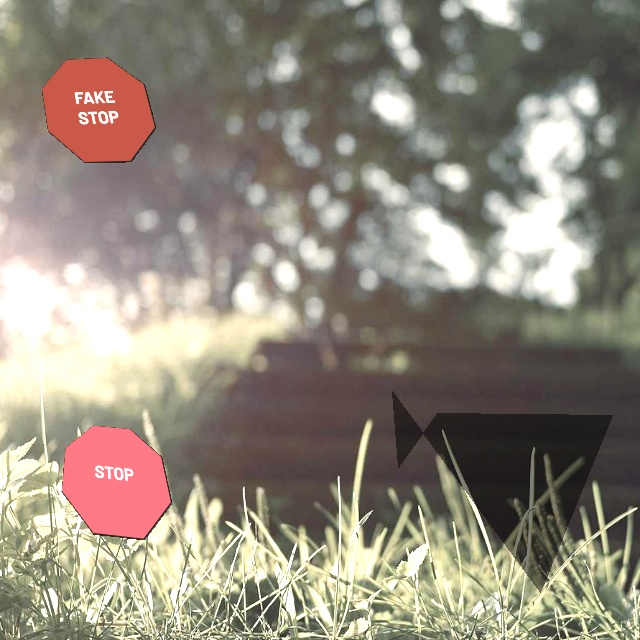FAKE_STOP: (41, 57, 156, 163)
STOP: (61, 425, 172, 540)
